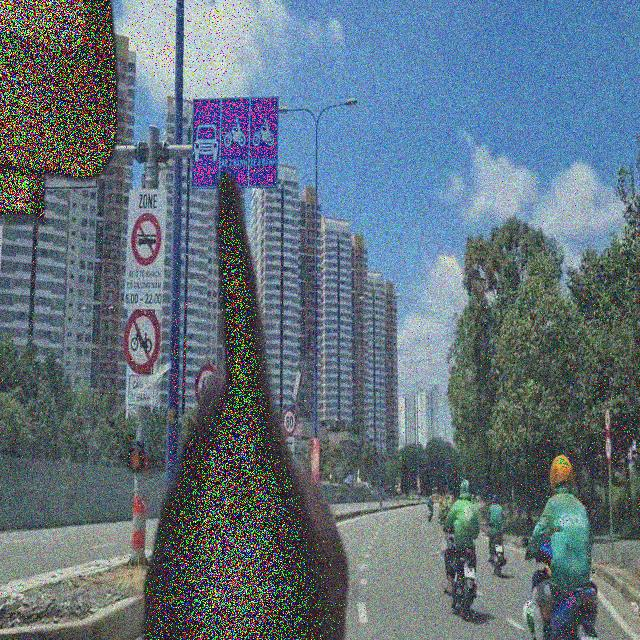Biển phụ: (128, 375, 157, 406)
Cấm các phương tiện hoạt động trong khung giờ cố định: (113, 169, 171, 315)
Cấm xe máy: (117, 307, 162, 378)
Giới hạn tốc độ: 80Km/h: (281, 400, 297, 431)
Làn đường cho từng xe: (192, 92, 282, 190)
